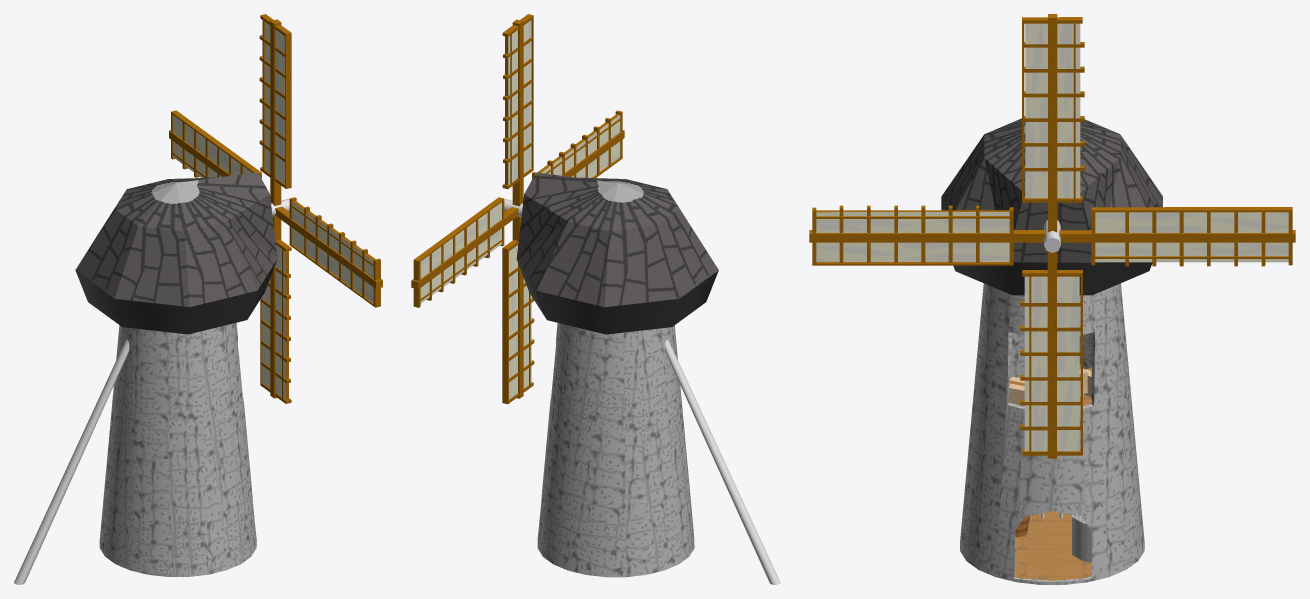
File: Grote Molen.FBX
The picture shows the model from 3 angles, left to right: view 1: azimuth 30°, elevation 25°; view 2: azimuth 150°, elevation 25°; view 3: azimuth 270°, elevation 25°; orthographic projection. The views are drawn at different scales.
Parts seen in each view (by area): view 1: Cone049, Cylinder275, Box170, Box171, Box172, Box169, Cylinder268; view 2: Cone049, Cylinder275, Box170, Box169, Box172, Box171, Cylinder268; view 3: Cone049, Cylinder275, Box171, Box169, Box170, Box172, Cylinder255, Cylinder271.
Boxes of the visible parts, bbox=[...] form: Cone049: bbox=[99, 322, 256, 576]; Cylinder275: bbox=[75, 172, 277, 334]; Box170: bbox=[259, 14, 291, 205]; Box171: bbox=[275, 197, 382, 307]; Box172: bbox=[260, 216, 291, 403]; Box169: bbox=[169, 110, 261, 178]; Cylinder268: bbox=[14, 339, 129, 584]; Cone049: bbox=[537, 323, 694, 577]; Cylinder275: bbox=[516, 172, 718, 334]; Box170: bbox=[502, 14, 533, 206]; Box169: bbox=[411, 197, 518, 307]; Box172: bbox=[502, 216, 534, 404]; Box171: bbox=[532, 110, 624, 179]; Cylinder268: bbox=[665, 339, 780, 584]; Cone049: bbox=[960, 283, 1144, 584]; Cylinder275: bbox=[941, 118, 1162, 295]; Box171: bbox=[809, 205, 1045, 265]; Box169: bbox=[1059, 207, 1295, 266]; Box170: bbox=[1022, 14, 1084, 232]; Box172: bbox=[1020, 251, 1082, 458]; Cylinder255: bbox=[1014, 511, 1091, 580]; Cylinder271: bbox=[1072, 514, 1092, 562].
Bounding box in the file's own units: 0.0997 × 0.1716 × 0.129.
